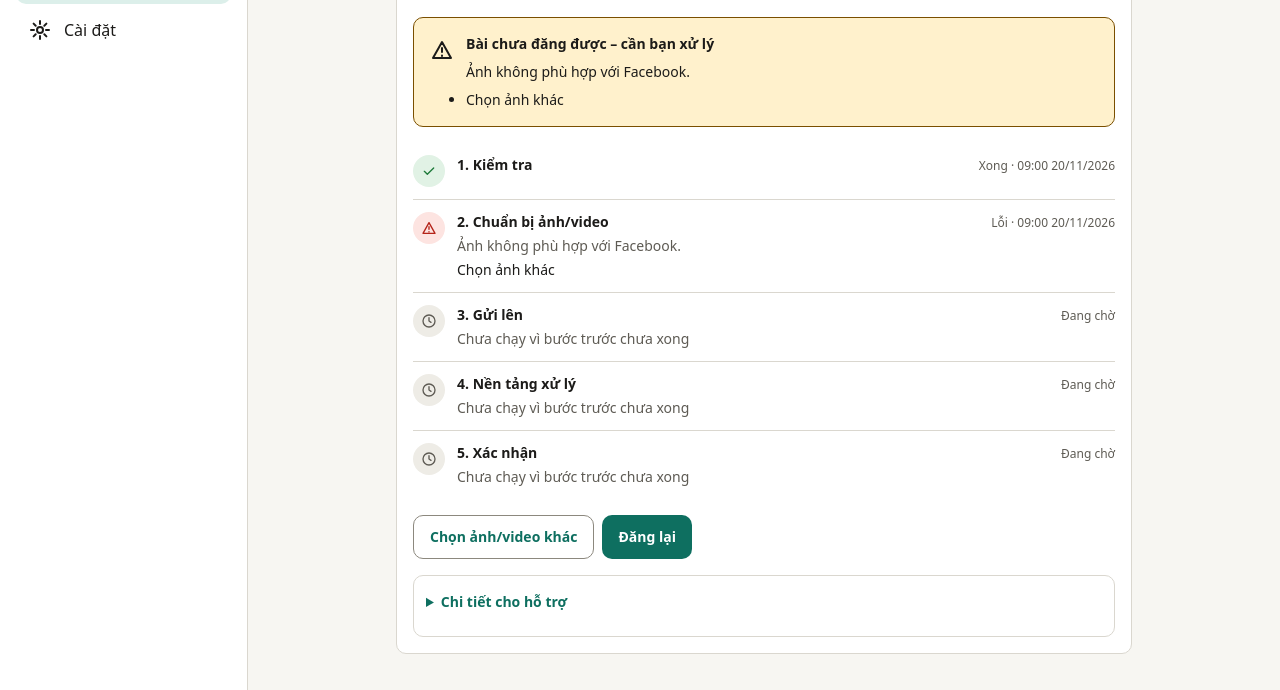
Scenario: Tiến trình đăng › 409 phiên bản lệch → hiện lỗi có cách xử lý và tải lại tiến trình
This screenshot has width=1280, height=690.
(page scrolled)
Click the button "Đăng lại" at {"x": 647, "y": 537}, box [602,515,692,559]
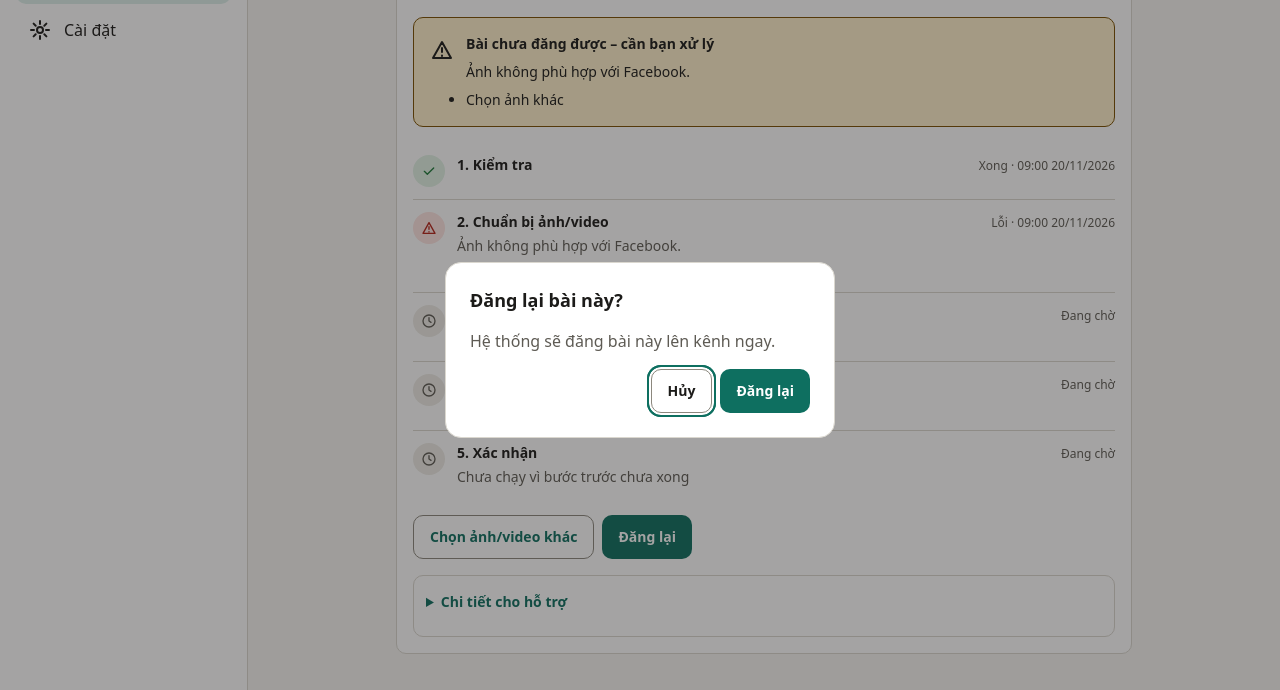
Click the button "Đăng lại" at {"x": 765, "y": 391}, box [720,369,810,413]
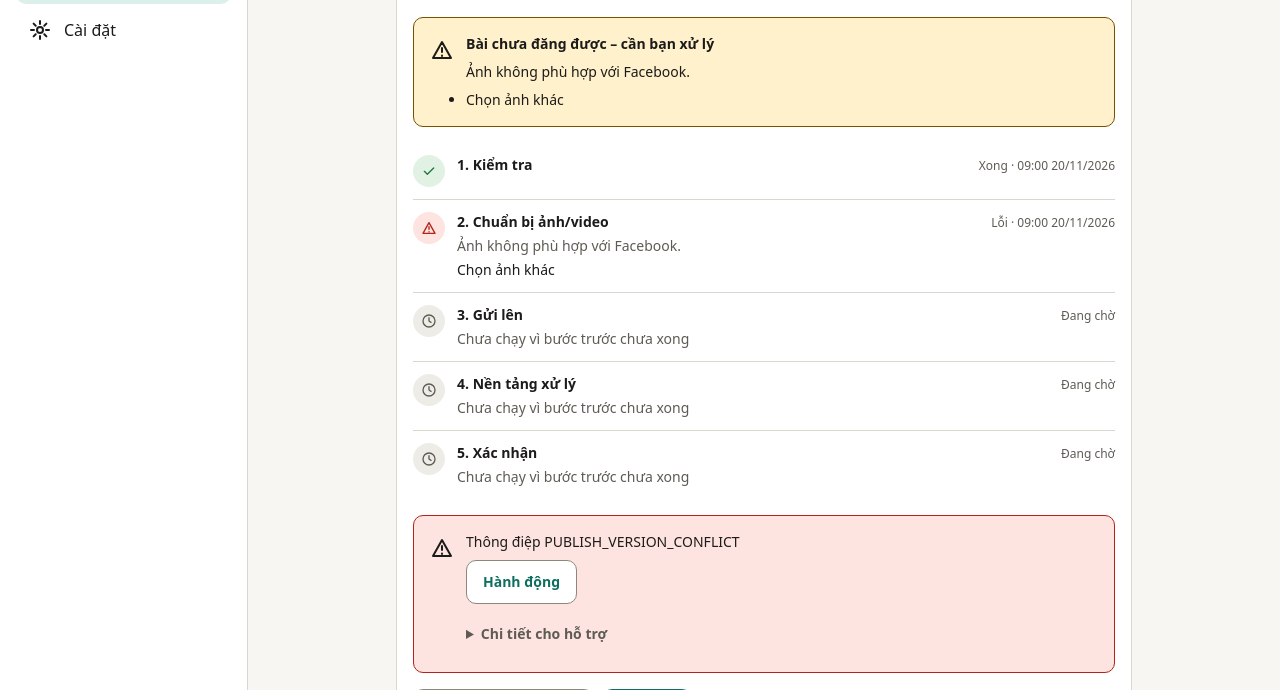
Now the message "Thông điệp PUBLISH_VERSION_CONFLICT Hành động Chi tiết cho hỗ trợ" is shown, box [413,515,1115,673]
